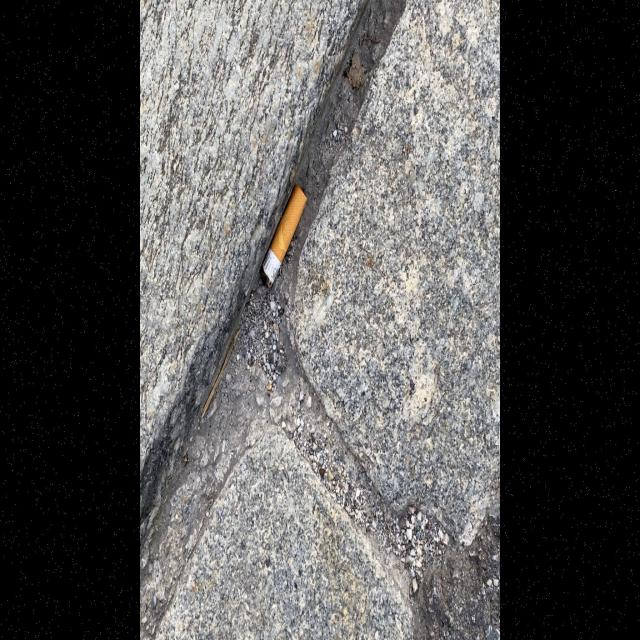other waste: (260, 183, 308, 288)
